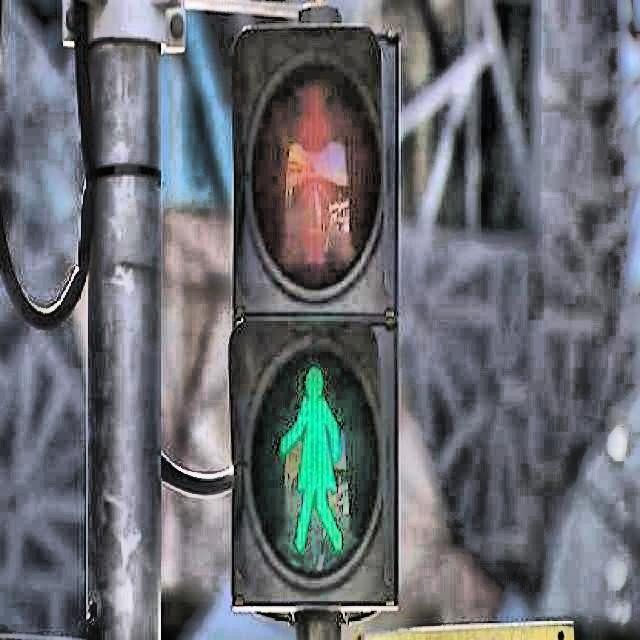semaforo pedestre: (116, 10, 504, 622), (228, 344, 398, 576)
